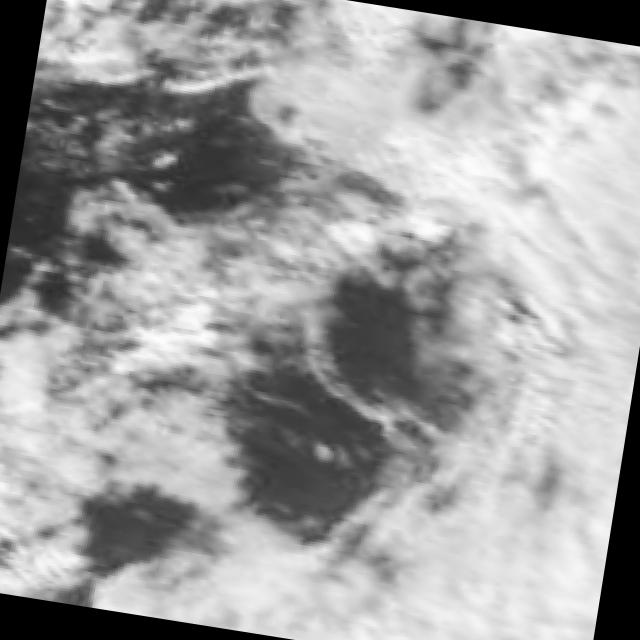CB: (475, 26, 640, 249), (392, 485, 612, 640), (511, 234, 640, 460), (398, 106, 552, 227)
